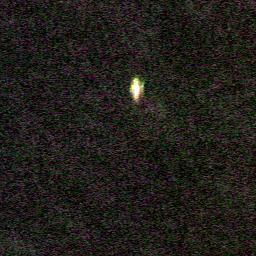Ship: (129, 77, 143, 100)
